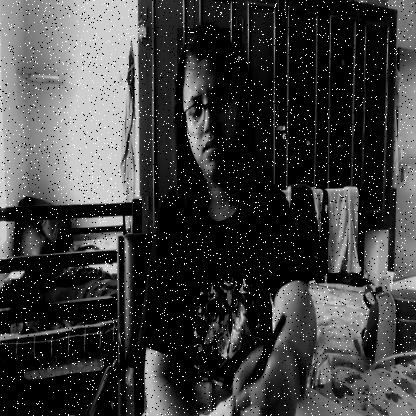Normal: (177, 28, 242, 191)
